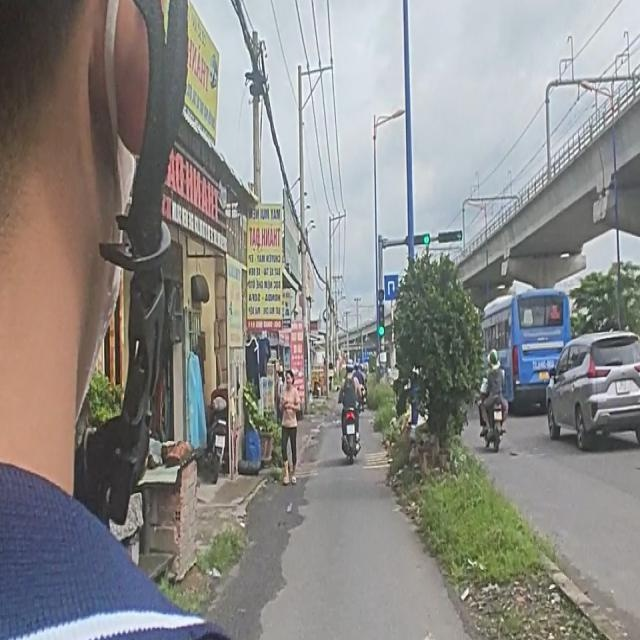I.409: (382, 270, 398, 302)
